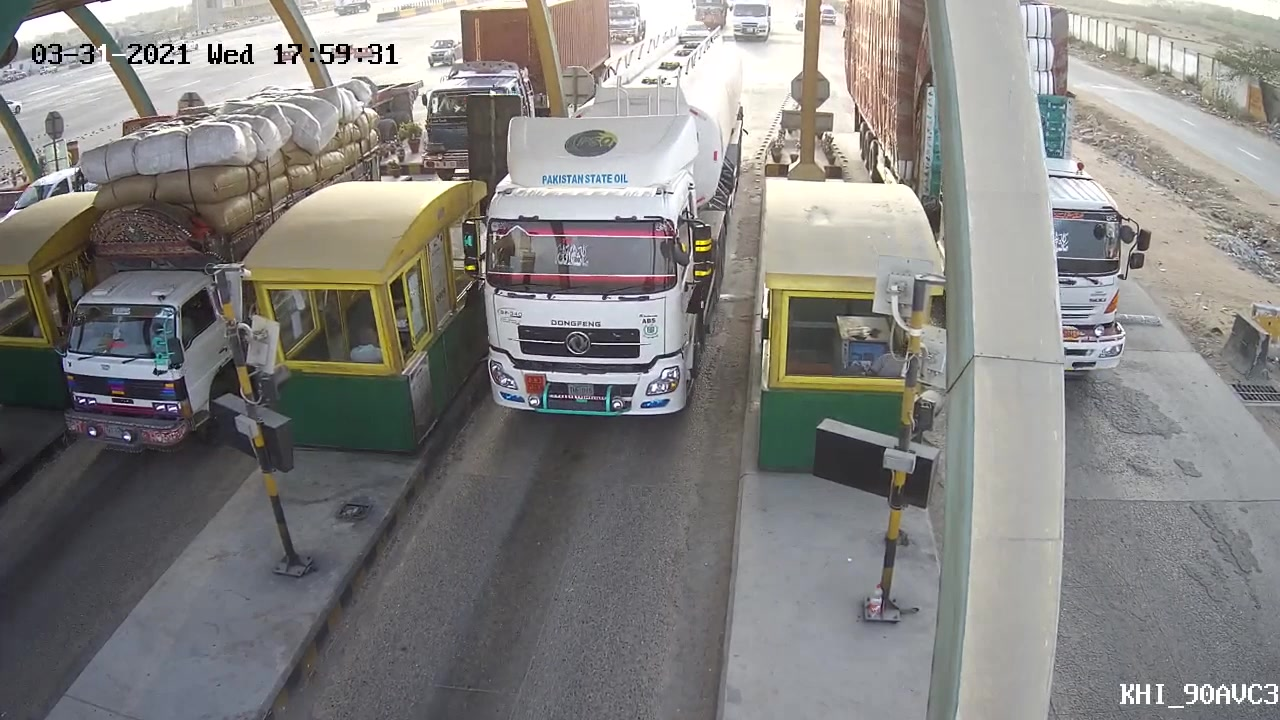F6: (457, 32, 759, 430)
